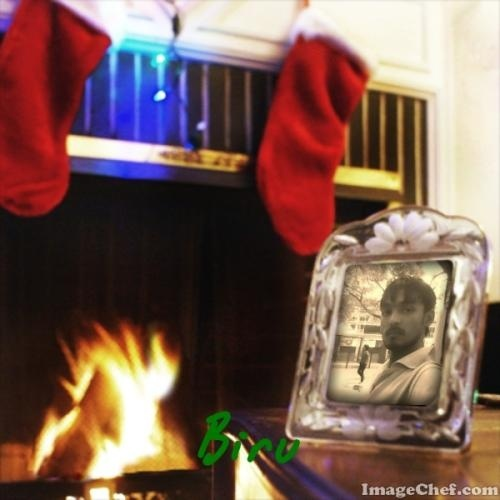fire: (27, 320, 188, 489)
